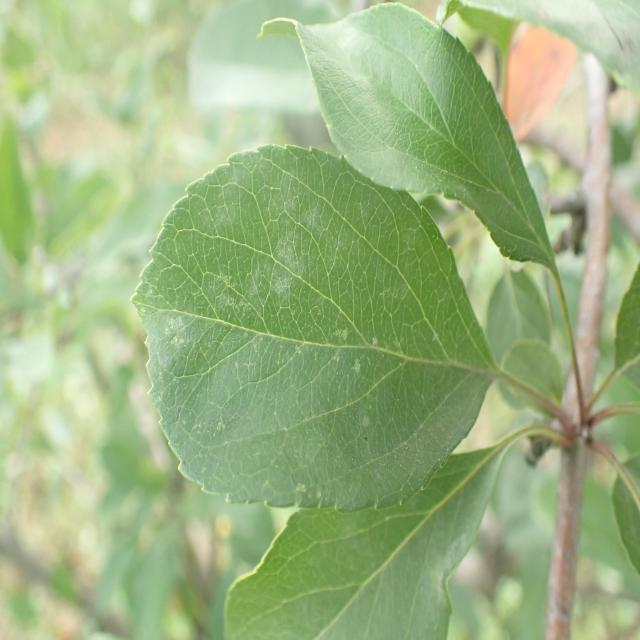Powdery_mildew: (136, 148, 485, 507)
